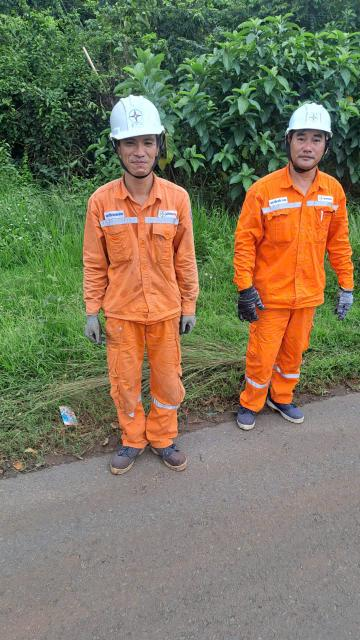gloves: (224, 277, 271, 323), (68, 303, 112, 349), (175, 292, 206, 342), (329, 276, 360, 325)
helmet: (103, 94, 168, 144), (282, 95, 349, 141)
shoes: (101, 438, 151, 483), (152, 439, 203, 473), (226, 392, 262, 437), (270, 389, 305, 433)
